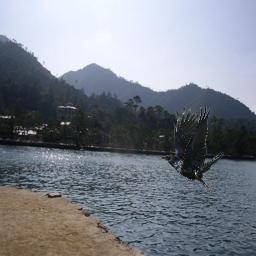Crow: (160, 103, 224, 195)
